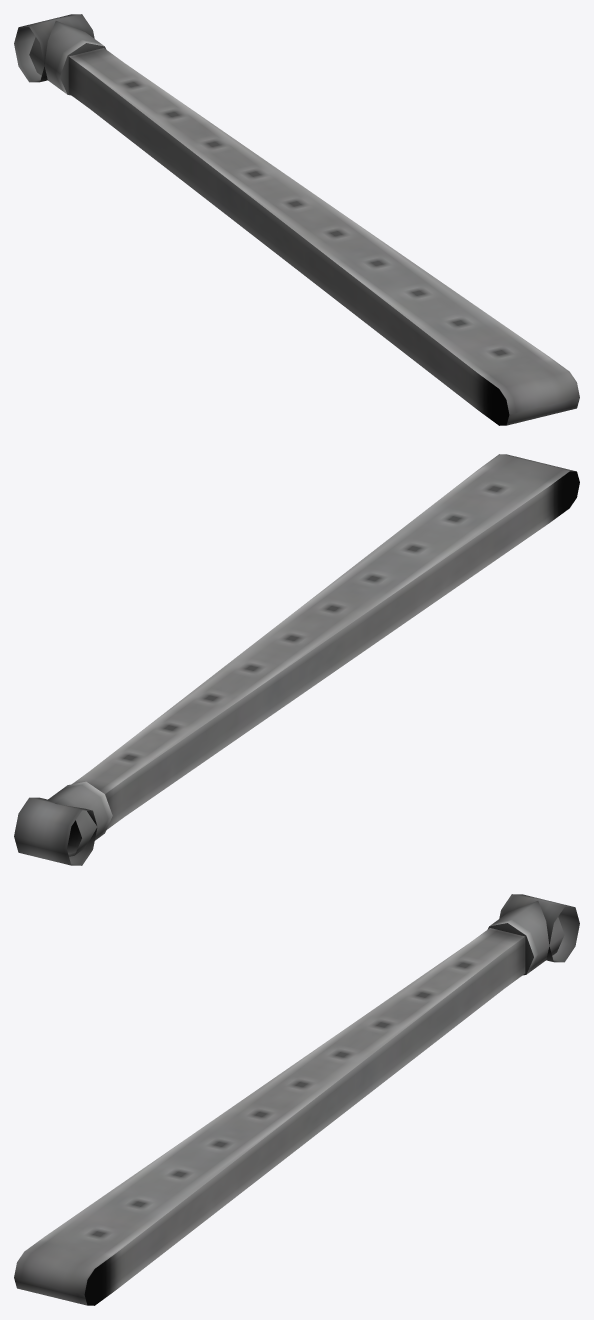
The model's file is arm.obj.
The picture shows the model from 3 angles, top to bottom: view 1: azimuth 30°, elevation 25°; view 2: azimuth 150°, elevation 25°; view 3: azimuth 330°, elevation 25°; orthographic projection.
Parts seen in each view (by area): view 1: arm; view 2: arm; view 3: arm.
Part boxes in pixels (x1,y1,x2,y2): arm: [14, 14, 579, 425]; arm: [14, 454, 579, 865]; arm: [14, 894, 579, 1305].
Bounding box in the file's own units: 0.05 × 0.0375 × 0.6187.
1 material, 1 textured.
